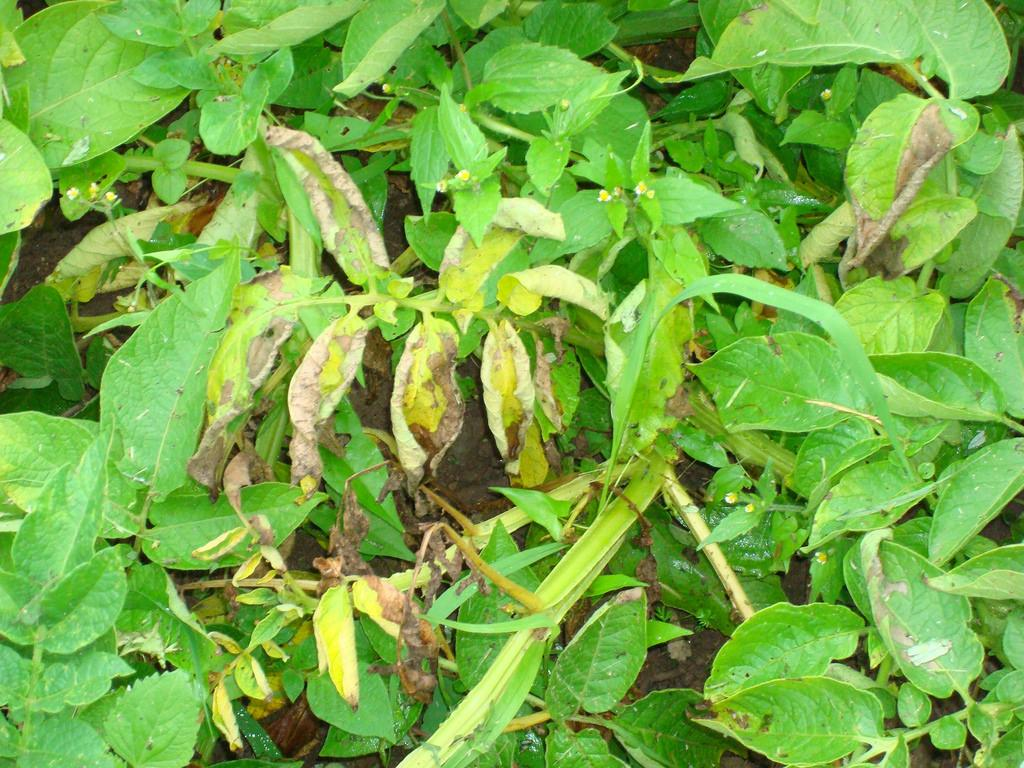Potato leaf: (247, 111, 415, 311), (275, 309, 370, 493), (384, 309, 471, 494), (477, 311, 566, 491), (203, 319, 289, 499)
